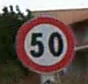limite 50: (14, 13, 75, 74)
